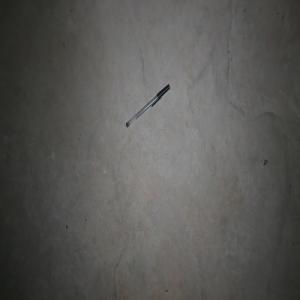Pen: (125, 84, 170, 127)
